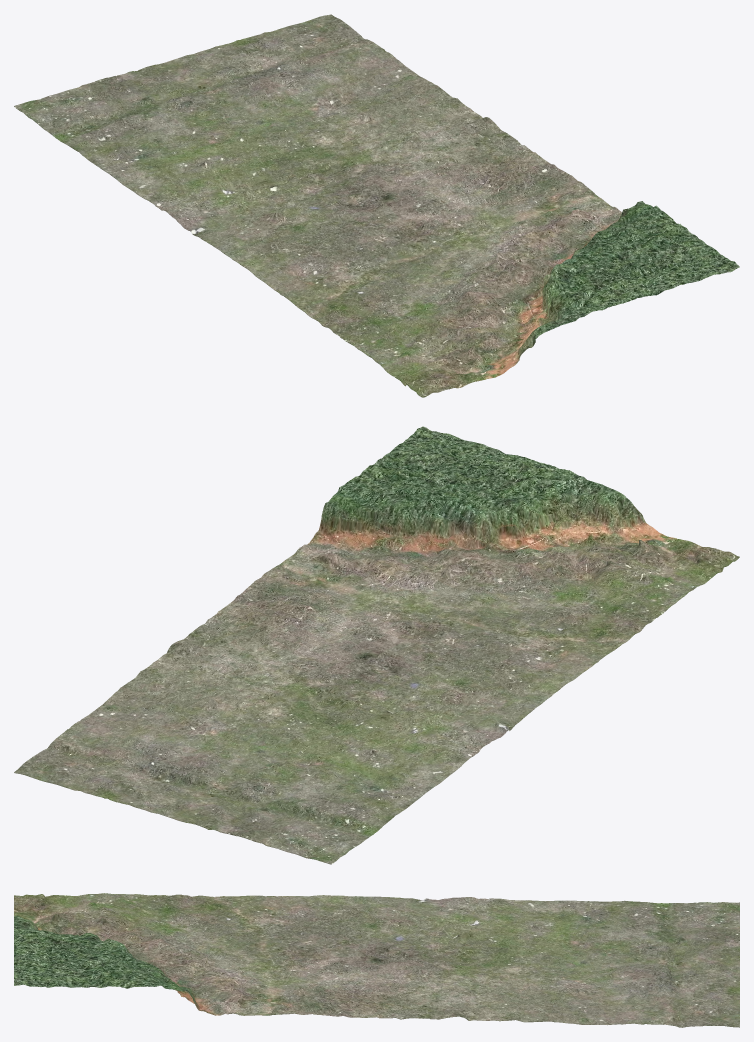
The model's file is BlockYXYB_L21_59.glb.
3 renders of one model, top to bottom at view 1: azimuth 30°, elevation 25°; view 2: azimuth 150°, elevation 25°; view 3: azimuth 270°, elevation 25°, orthographic. The views are drawn at different scales.
Parts seen in each view (by area): view 1: rtc; view 2: rtc; view 3: rtc.
Boxes of the visible parts, x1=… form: rtc: x1=14, y1=14, x2=739, y2=397; rtc: x1=14, y1=426, x2=739, y2=864; rtc: x1=14, y1=893, x2=739, y2=1027.
Bounding box in the file's own units: 13.01 × 2.53 × 29.05.
Materials: 2 (2 with a texture image).
